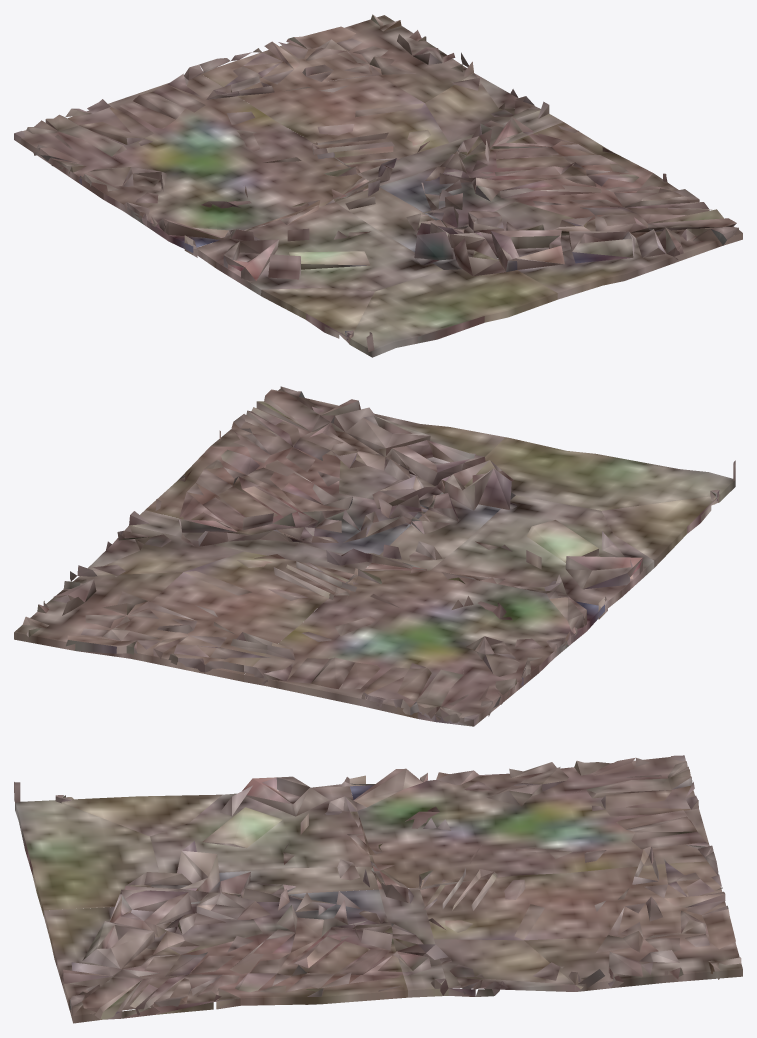
3 renders of one model, top to bottom at view 1: azimuth 30°, elevation 25°; view 2: azimuth 150°, elevation 25°; view 3: azimuth 270°, elevation 25°, orthographic. The views are drawn at different scales.
Parts seen in each view (by area): view 1: Mesh_0; view 2: Mesh_0; view 3: Mesh_0.
Part boxes in pixels (x1,y1,x2,y2): Mesh_0: (14,14,742,357); Mesh_0: (14,386,735,726); Mesh_0: (14,755,742,1023).
Size of the model in its own units: 1065 by 84.25 by 1319.
1 material, 1 textured.
